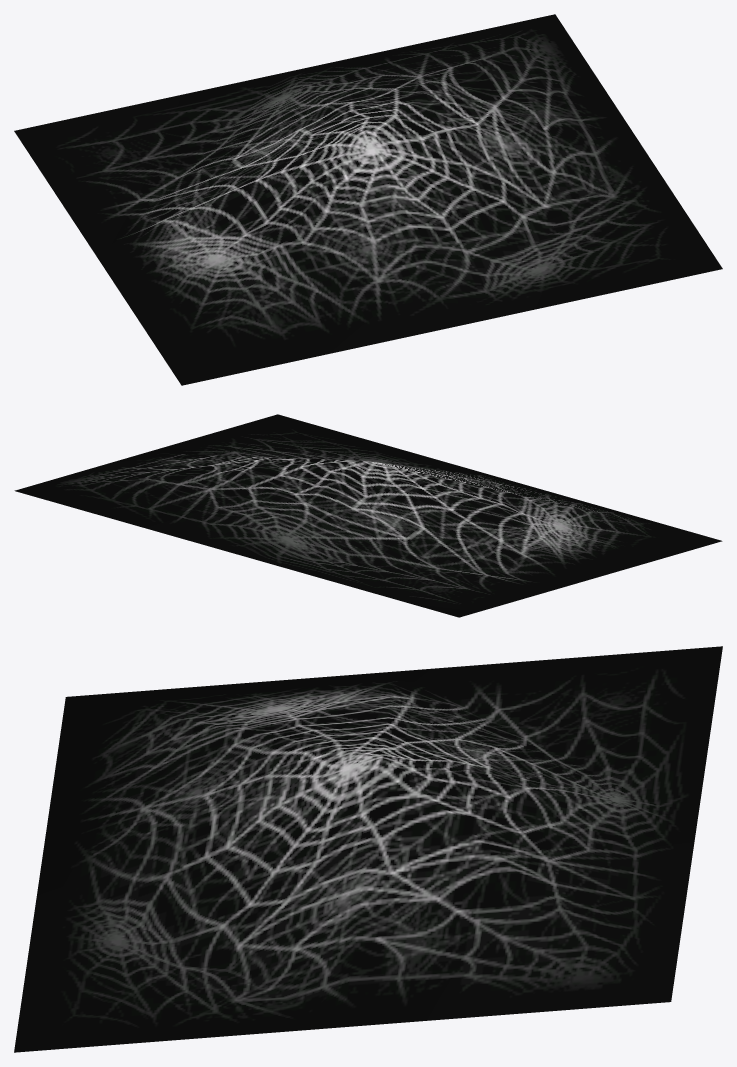
File: MIRKWOOD_PLANE10.fbx
3 views of the same model, one above another, from view 1: azimuth 30°, elevation 25°; view 2: azimuth 150°, elevation 25°; view 3: azimuth 270°, elevation 25° (orthographic). The views are drawn at different scales.
Parts seen in each view (by area): view 1: MIRKWOOD_PLANE10; view 2: MIRKWOOD_PLANE10; view 3: MIRKWOOD_PLANE10.
Part boxes in pixels (x1,y1,x2,y2): MIRKWOOD_PLANE10: (14,14,722,385); MIRKWOOD_PLANE10: (14,414,722,617); MIRKWOOD_PLANE10: (14,646,722,1052).
Bounding box in the file's own units: 127066 × 20829 × 94127.
1 material, 1 textured.
